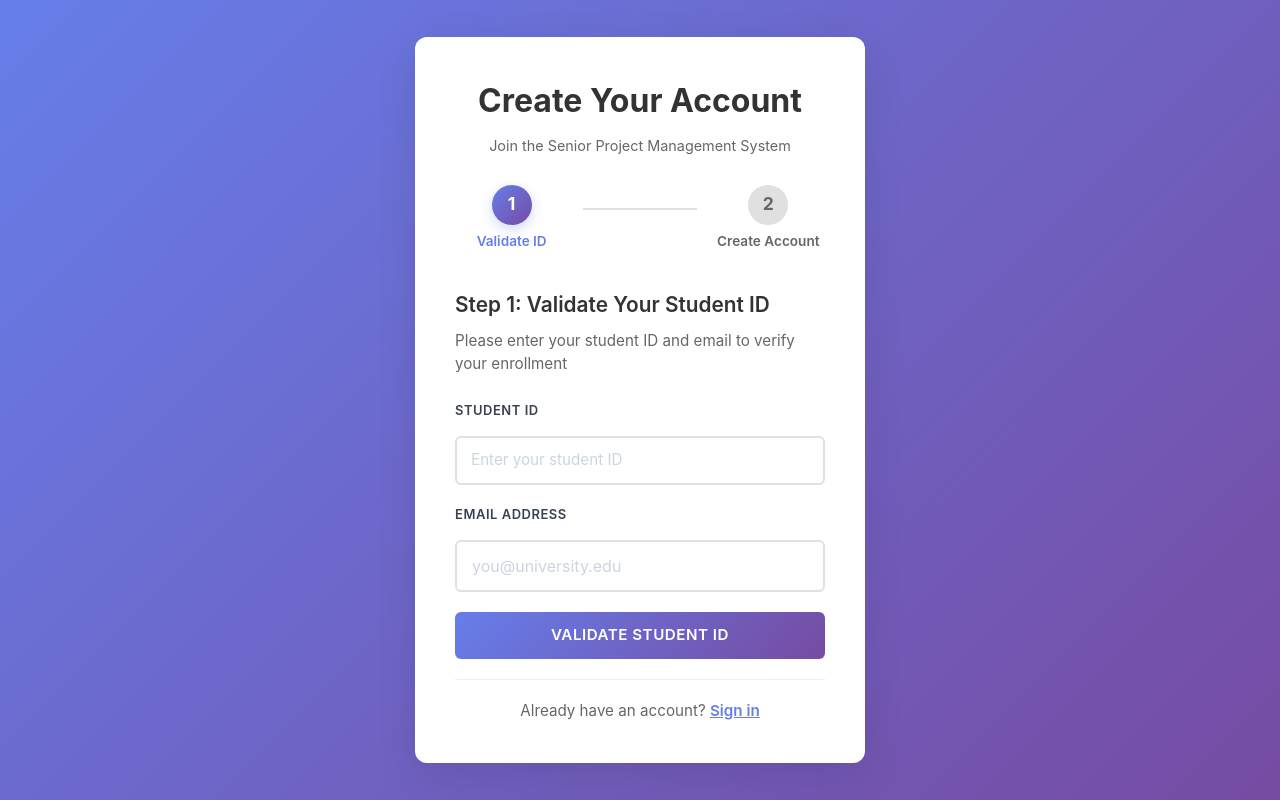
Test case: RegisterForm (Two-Step Registration) › Step 1: Student ID Validation › shows error message on invalid student ID (400)
The image size is (1280, 800).
In the field labelled "Student ID": [640, 461] box [455, 436, 825, 485], type "INVALID"
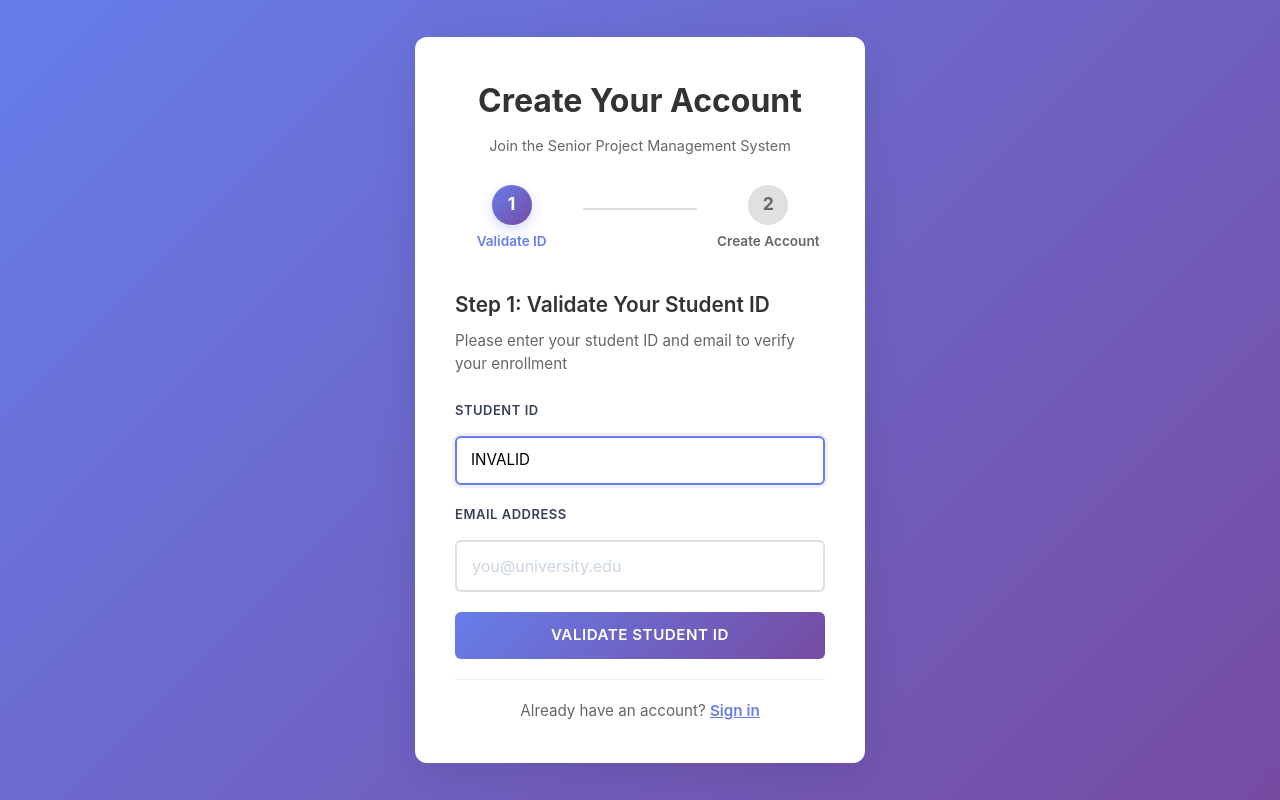
In the field labelled "Email Address": [640, 566] box [455, 540, 825, 592], type "test@university.edu"
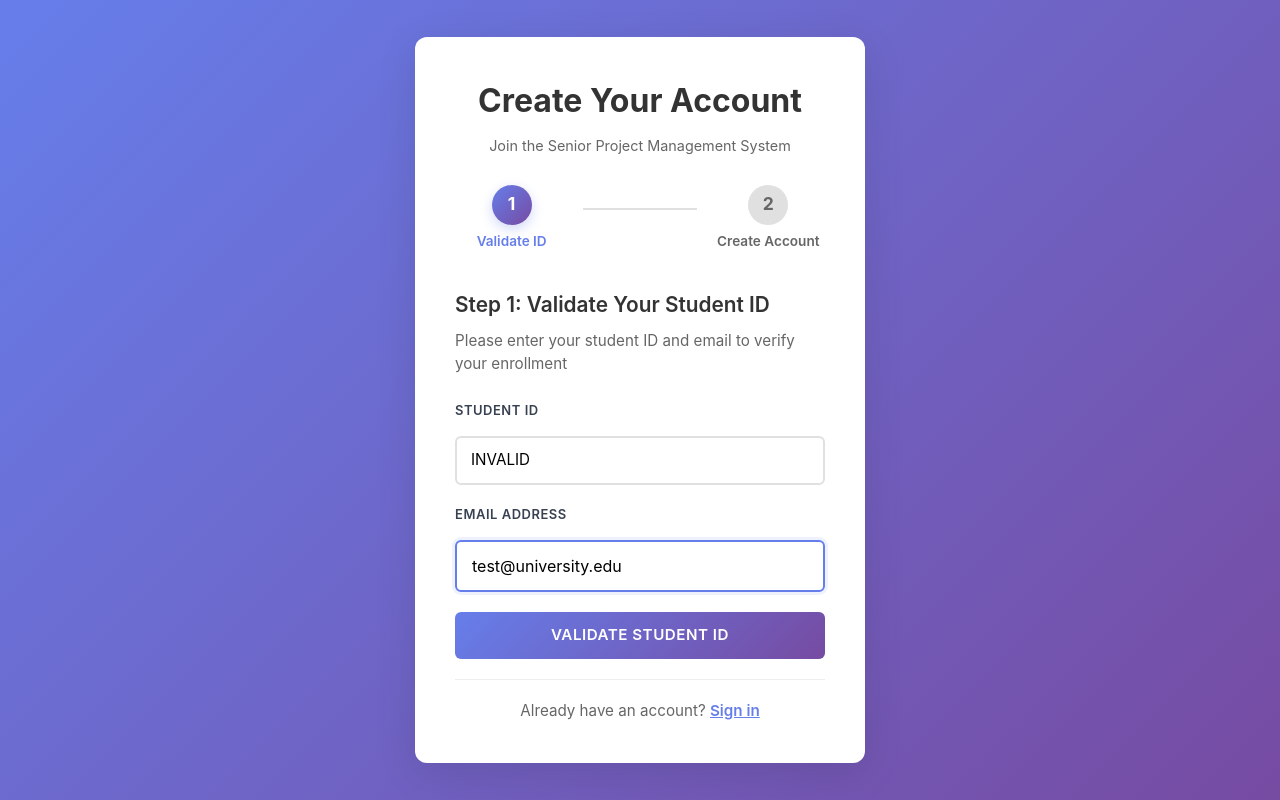
Click the button "Validate Student ID": [640, 636] box [455, 612, 825, 659]
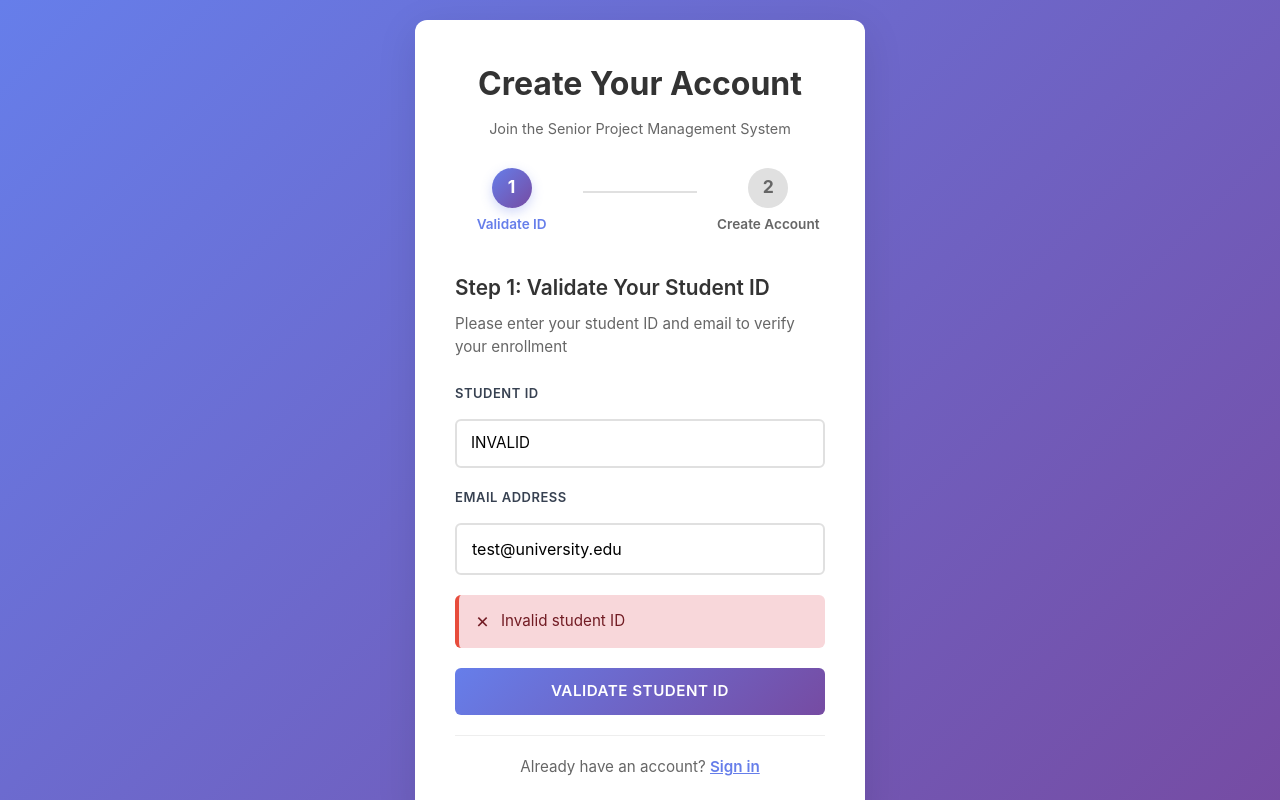
expect the text "Invalid student ID" is shown: met, box [501, 612, 625, 630]
